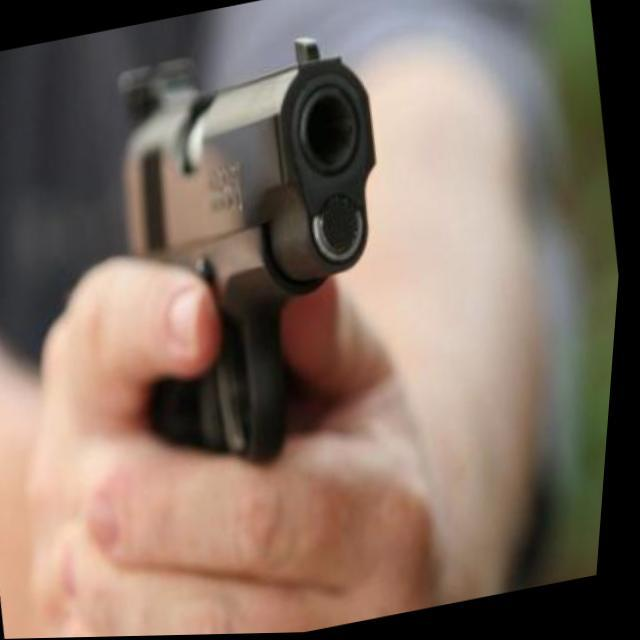weapon: (33, 0, 486, 639)
